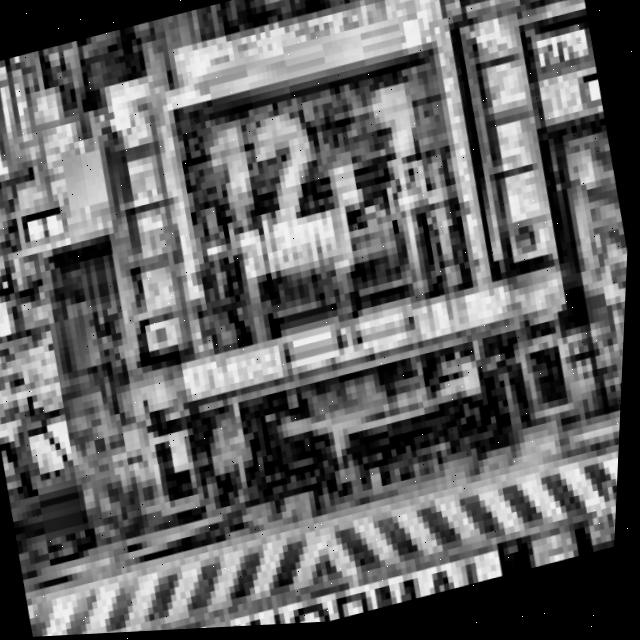dump_truck: (0, 0, 640, 575)
light_vehicle: (0, 362, 146, 640)
